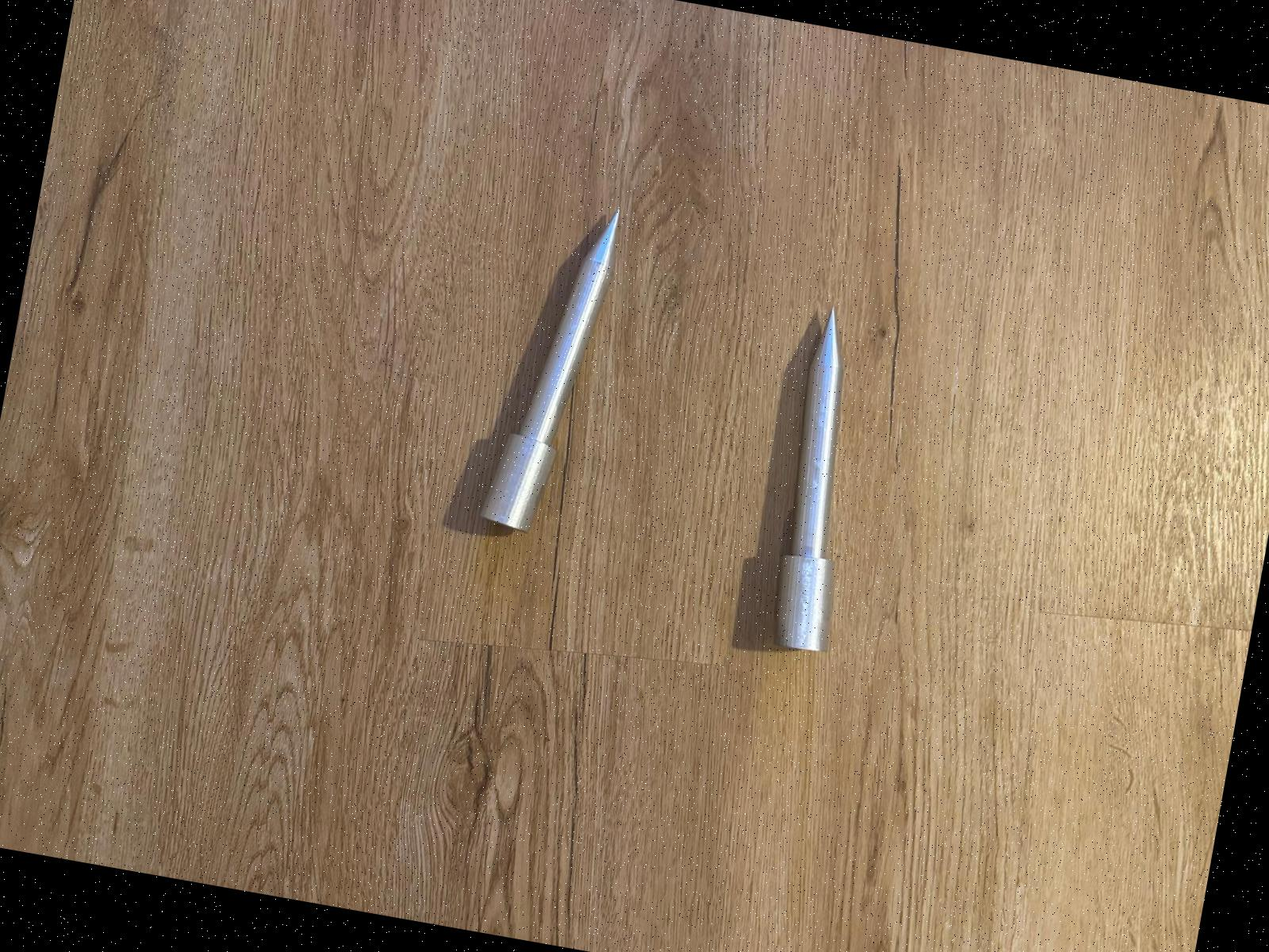probes: (480, 196, 620, 537), (763, 308, 884, 654)
